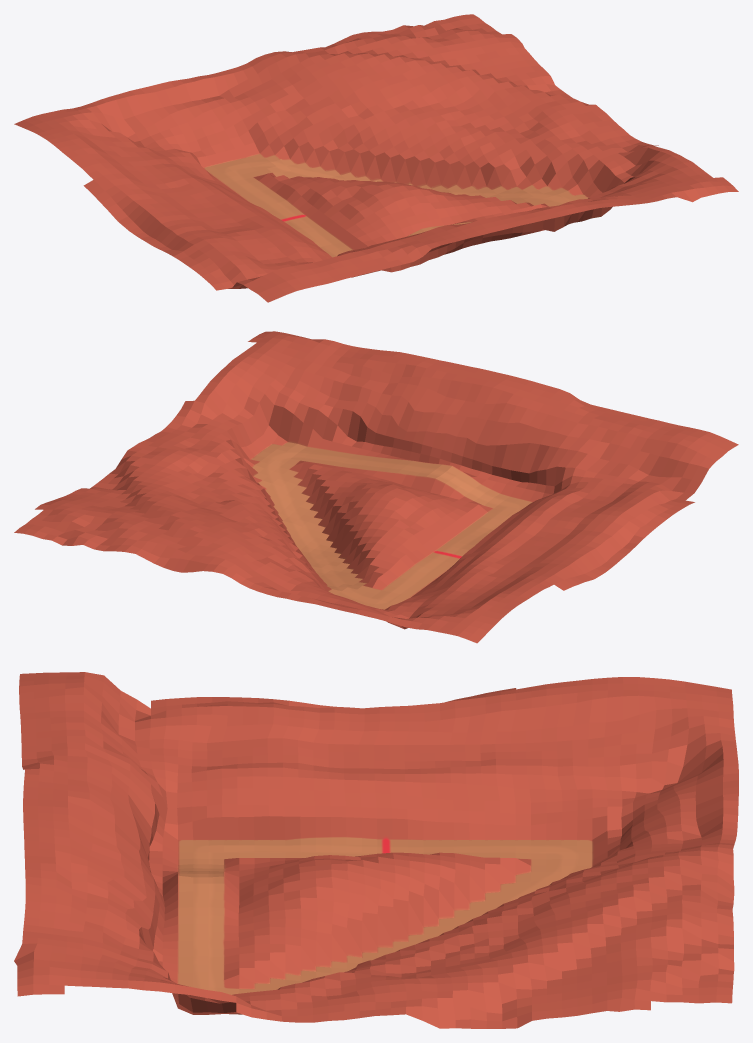
File: savannah_track.obj
The picture shows the model from 3 angles, top to bottom: view 1: azimuth 30°, elevation 25°; view 2: azimuth 150°, elevation 25°; view 3: azimuth 270°, elevation 25°; orthographic projection. The views are drawn at different scales.
Size of the model in its own units: 10.35 by 1.63 by 9.84.
1 material, 1 textured.
